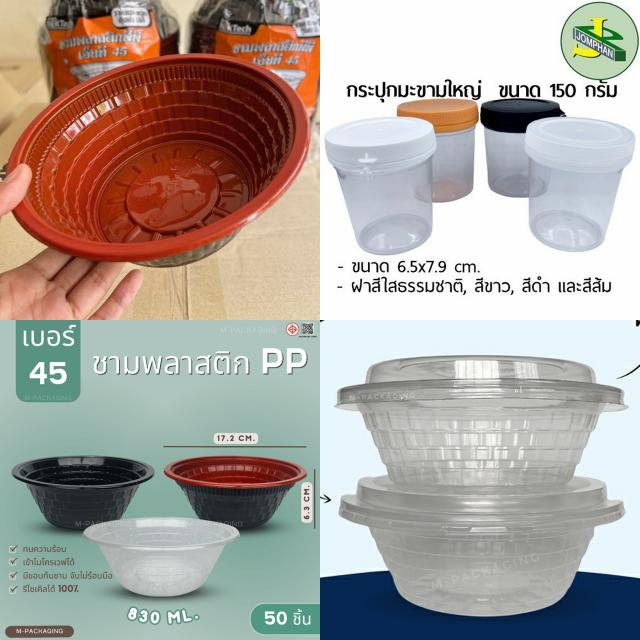Single-Use-Plastic: (9, 54, 309, 266), (339, 475, 625, 616), (338, 355, 626, 489), (325, 118, 436, 255), (525, 116, 635, 251), (84, 518, 239, 596), (12, 455, 154, 529), (164, 455, 306, 529), (480, 98, 565, 197), (398, 99, 479, 202)
